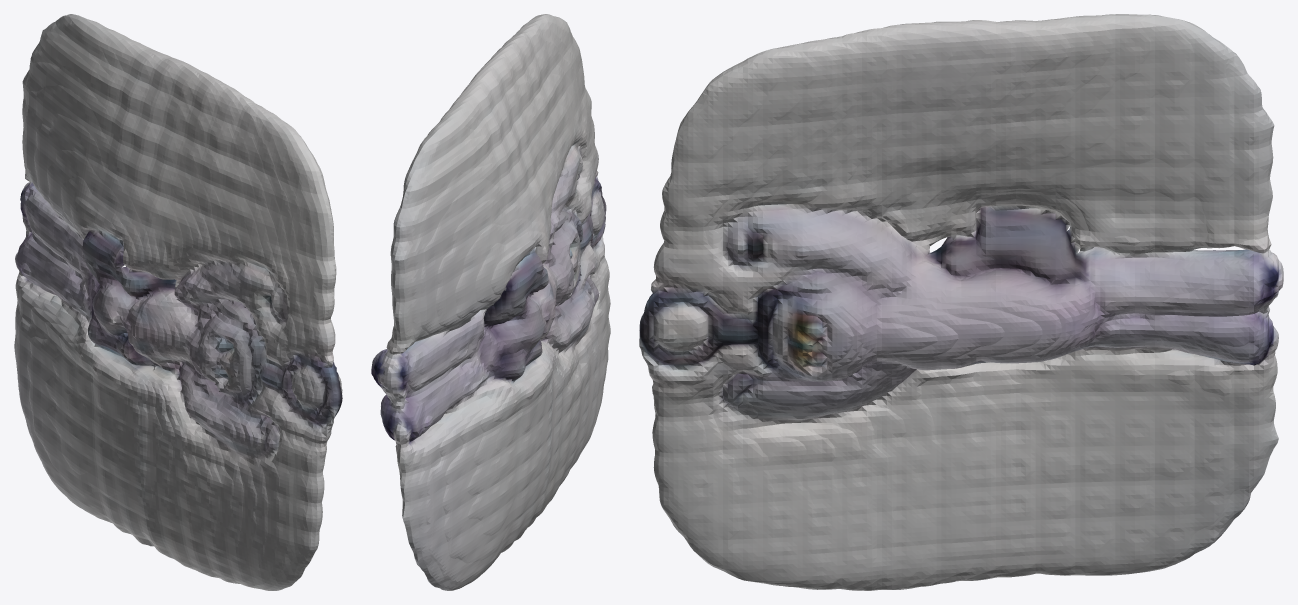
The model's file is 11-隱藏款-牛奶貓-貝特.glb.
The picture shows the model from 3 angles, left to right: view 1: azimuth 30°, elevation 25°; view 2: azimuth 150°, elevation 25°; view 3: azimuth 270°, elevation 25°; orthographic projection. The views are drawn at different scales.
Visible parts, largest first — view 1: world; view 2: world; view 3: world.
Boxes of the visible parts, box(x1,y1,x2,y2) form: world: box(14, 14, 342, 590); world: box(371, 14, 610, 590); world: box(639, 14, 1283, 590).
Bounding box in the file's own units: 0.2251 × 0.8818 × 0.8864.
